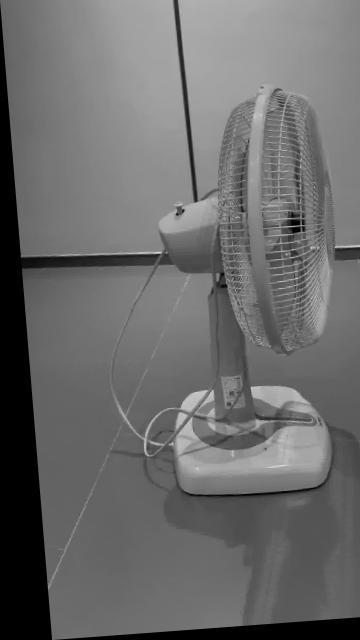Fan: (154, 90, 331, 501)
